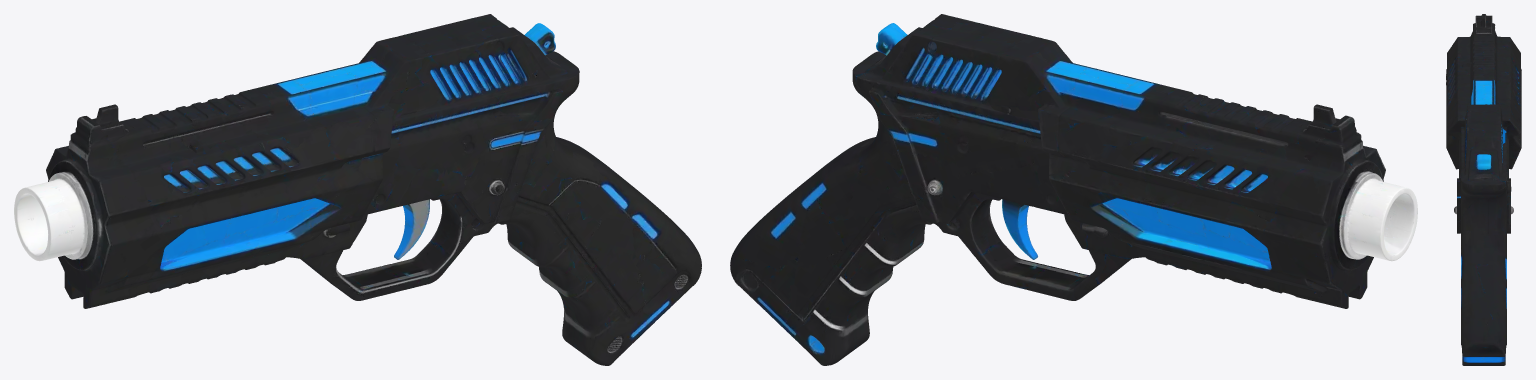
The model's file is sci-fi-blaster.glb.
3 renders of one model, left to right at view 1: azimuth 30°, elevation 25°; view 2: azimuth 150°, elevation 25°; view 3: azimuth 270°, elevation 25°, orthographic. The views are drawn at different scales.
Bounding box in the file's own units: 1.9 × 1.01 × 0.3252.
Materials: 1 (1 with a texture image).
